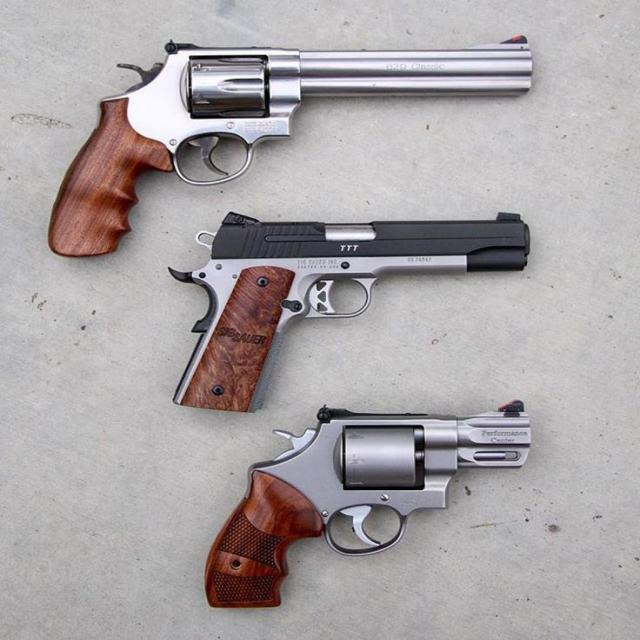Pistol: (31, 12, 551, 230), (166, 195, 538, 415), (201, 402, 561, 605)
